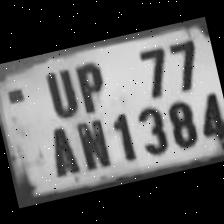1: (102, 104, 142, 165)
3: (128, 97, 172, 159)
4: (190, 84, 224, 146)
7: (160, 32, 206, 94), (130, 39, 174, 101)
8: (158, 92, 200, 152)
A: (37, 118, 83, 181)
N: (69, 113, 114, 172)
P: (67, 55, 112, 116)
U: (38, 60, 80, 120)
